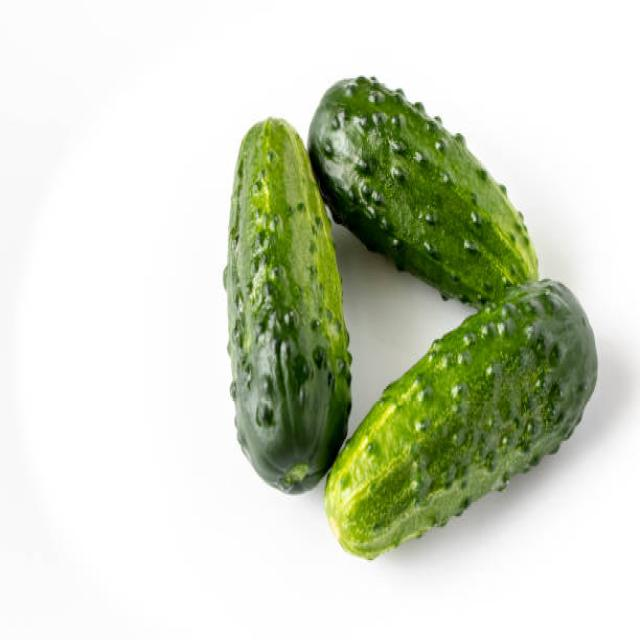cucumber: (325, 280, 598, 561), (306, 76, 540, 310), (223, 114, 353, 495)
